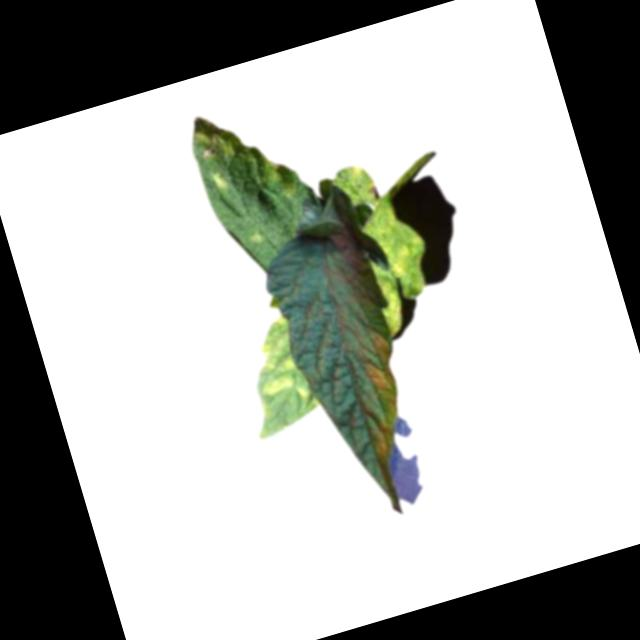Leaf_Mold: (350, 191, 445, 336), (182, 97, 293, 221), (237, 311, 316, 423), (353, 332, 403, 402), (361, 419, 400, 468)
